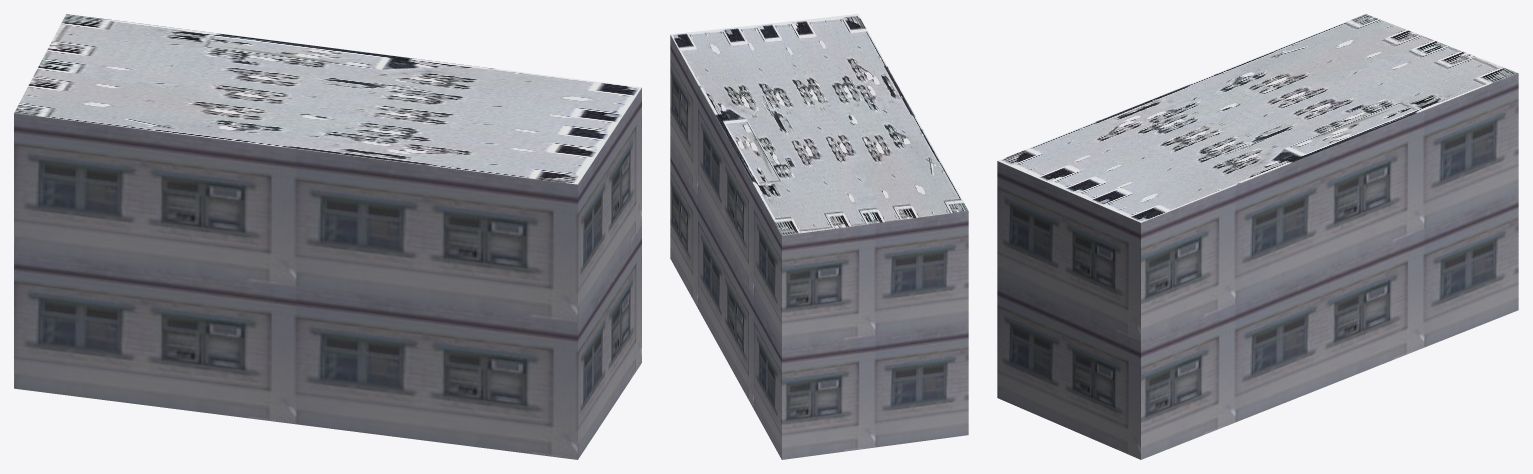
File: ResTex__1268.fbx
3 renders of one model, left to right at view 1: azimuth 30°, elevation 25°; view 2: azimuth 150°, elevation 25°; view 3: azimuth 270°, elevation 25°, orthographic. The views are drawn at different scales.
Parts seen in each view (by area): view 1: CityEngineMaterial_1_m, CityEngineMaterial_8_m; view 2: CityEngineMaterial_1_m, CityEngineMaterial_8_m; view 3: CityEngineMaterial_1_m, CityEngineMaterial_8_m.
Boxes of the visible parts, box(x1,y1,x2,y2) form: CityEngineMaterial_1_m: box(14, 88, 641, 459); CityEngineMaterial_8_m: box(14, 14, 641, 184); CityEngineMaterial_1_m: box(670, 35, 968, 459); CityEngineMaterial_8_m: box(670, 14, 968, 235); CityEngineMaterial_1_m: box(997, 73, 1518, 459); CityEngineMaterial_8_m: box(998, 14, 1518, 222).
Bounding box in the file's own units: 11.34 × 6 × 11.96.
2 materials, 2 textured.
